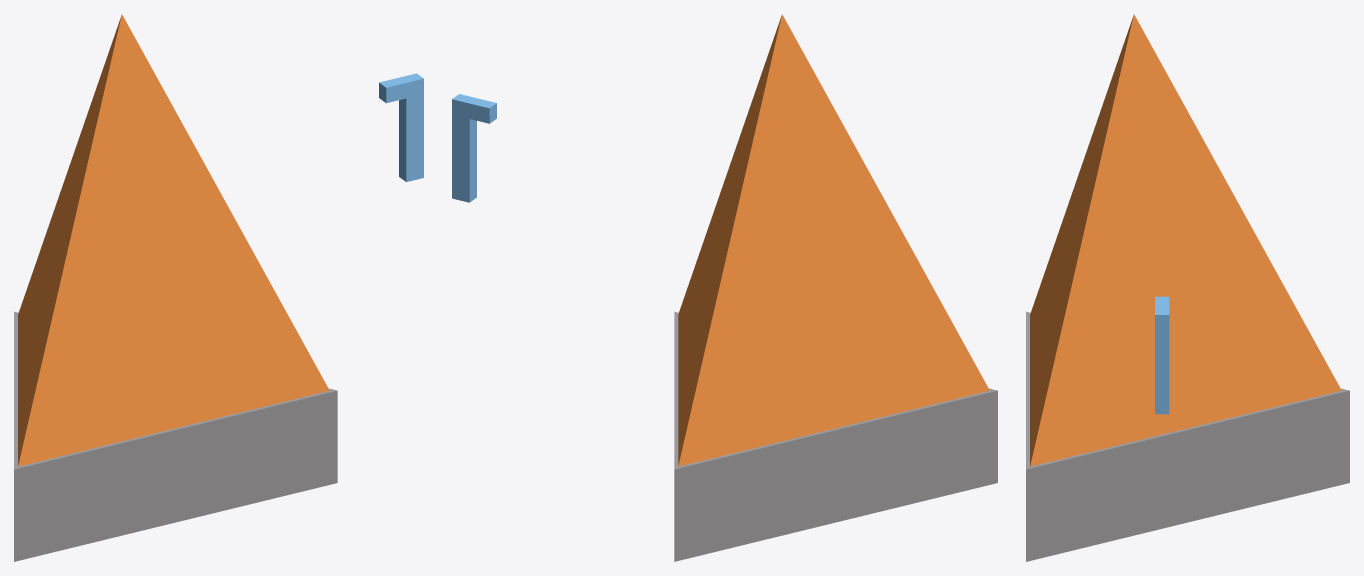
The model's file is cupNew.gltf.
3 views of the same model, side by side, from view 1: azimuth 30°, elevation 25°; view 2: azimuth 150°, elevation 25°; view 3: azimuth 270°, elevation 25° (orthographic).
Parts seen in each view (by area): view 1: Cone, Cone.001, Text; view 2: Cone, Cone.001, Text; view 3: Cone, Cone.001, Text.
Part boxes in pixels (x1,y1,x2,y2): Cone: (18, 14, 329, 466); Cone.001: (14, 311, 337, 561); Text: (379, 73, 423, 181); Cone: (678, 14, 989, 466); Cone.001: (674, 311, 997, 561); Text: (452, 94, 496, 202); Cone: (1030, 14, 1341, 466); Cone.001: (1026, 311, 1349, 561); Text: (1155, 296, 1169, 414).
Bounding box in the file's own units: 2.63 × 2.49 × 1.56.
